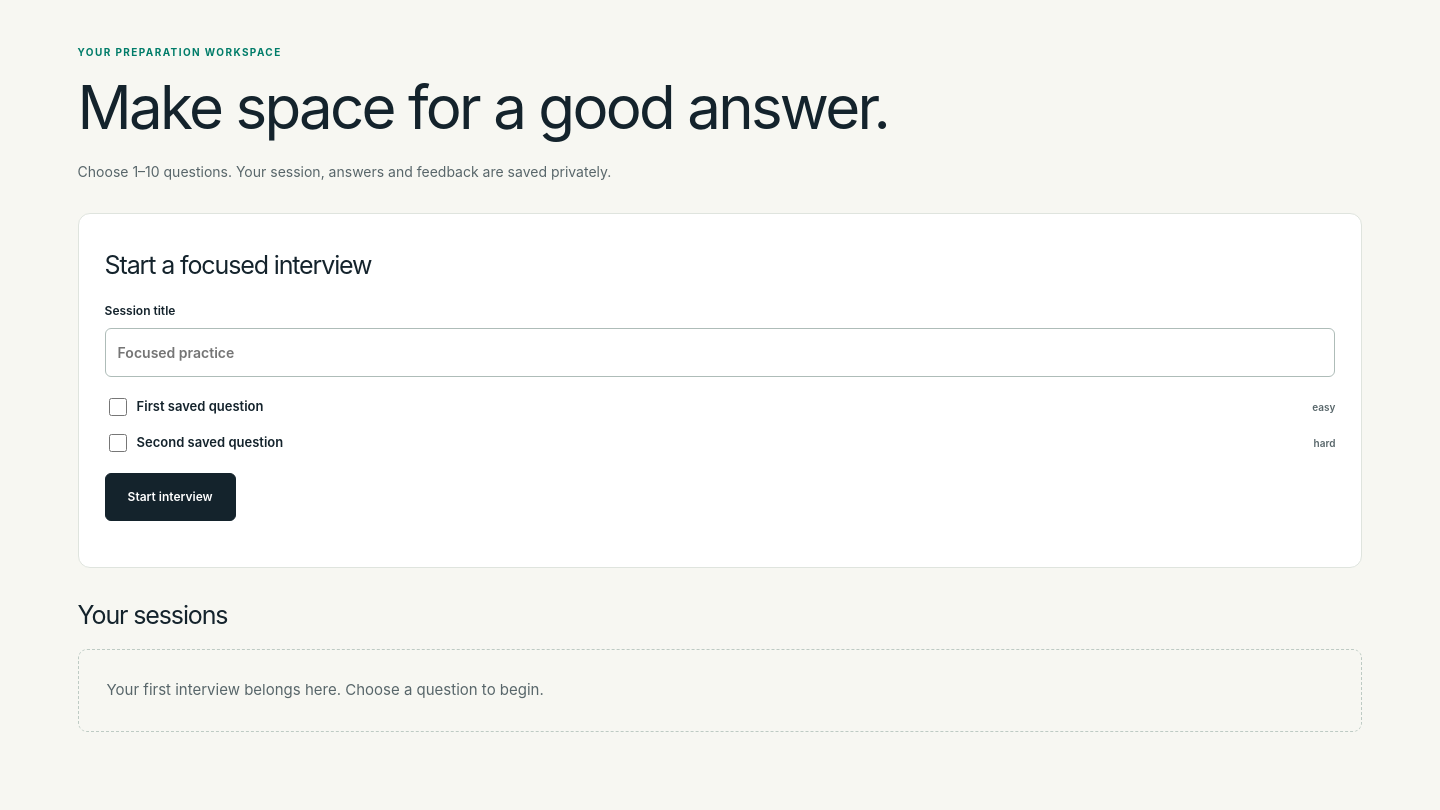
interview picker sends only selected saved questions and preserves selection after API failure
Expected: the checkbox labelled "First saved question easy" is shown, top-left (109, 398), bottom-right (127, 416)
Click the checkbox labelled "Second saved question hard": (118, 443) top-left (109, 434), bottom-right (127, 452)
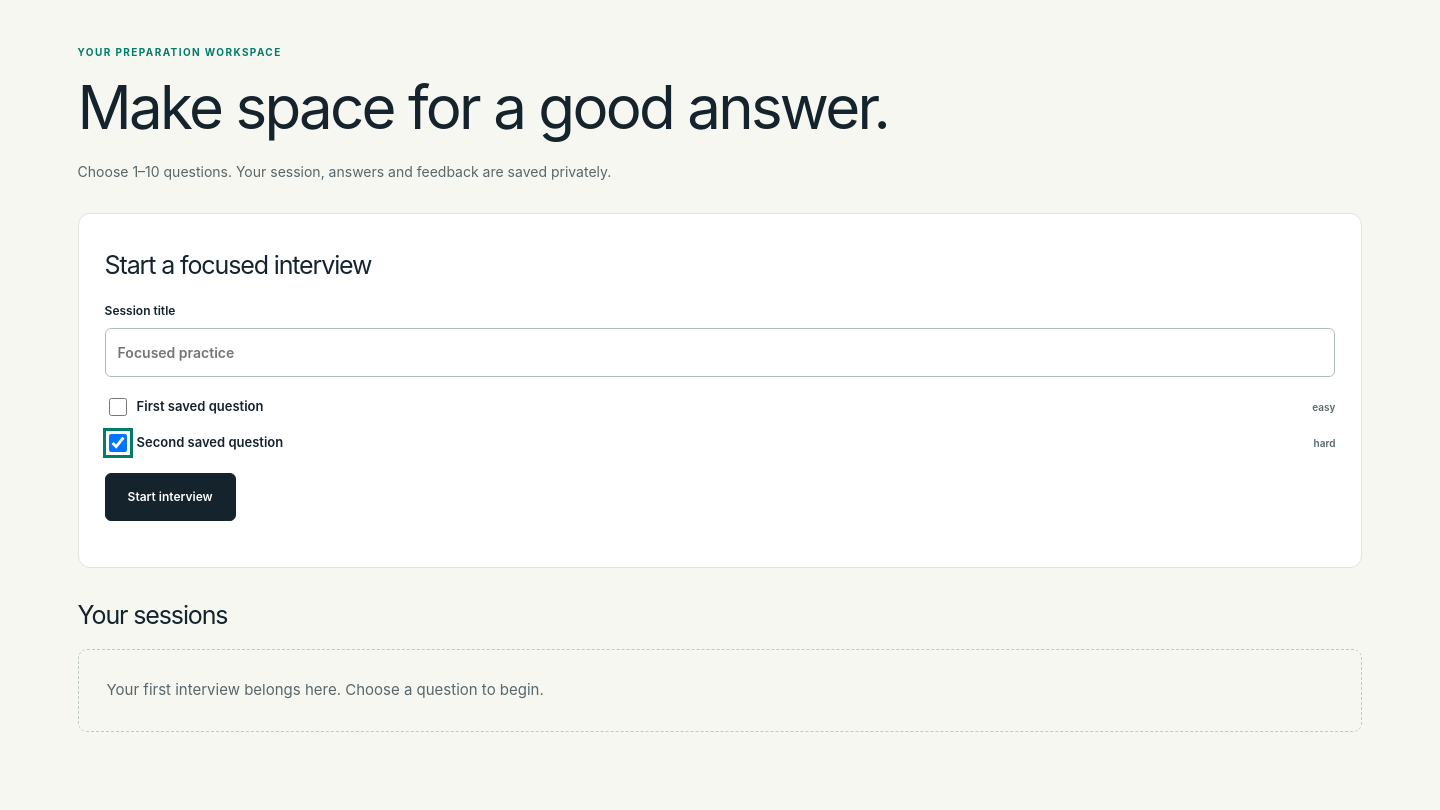
In the field labelled "Session title": (720, 352) top-left (105, 328), bottom-right (1335, 377), type "System design prep"
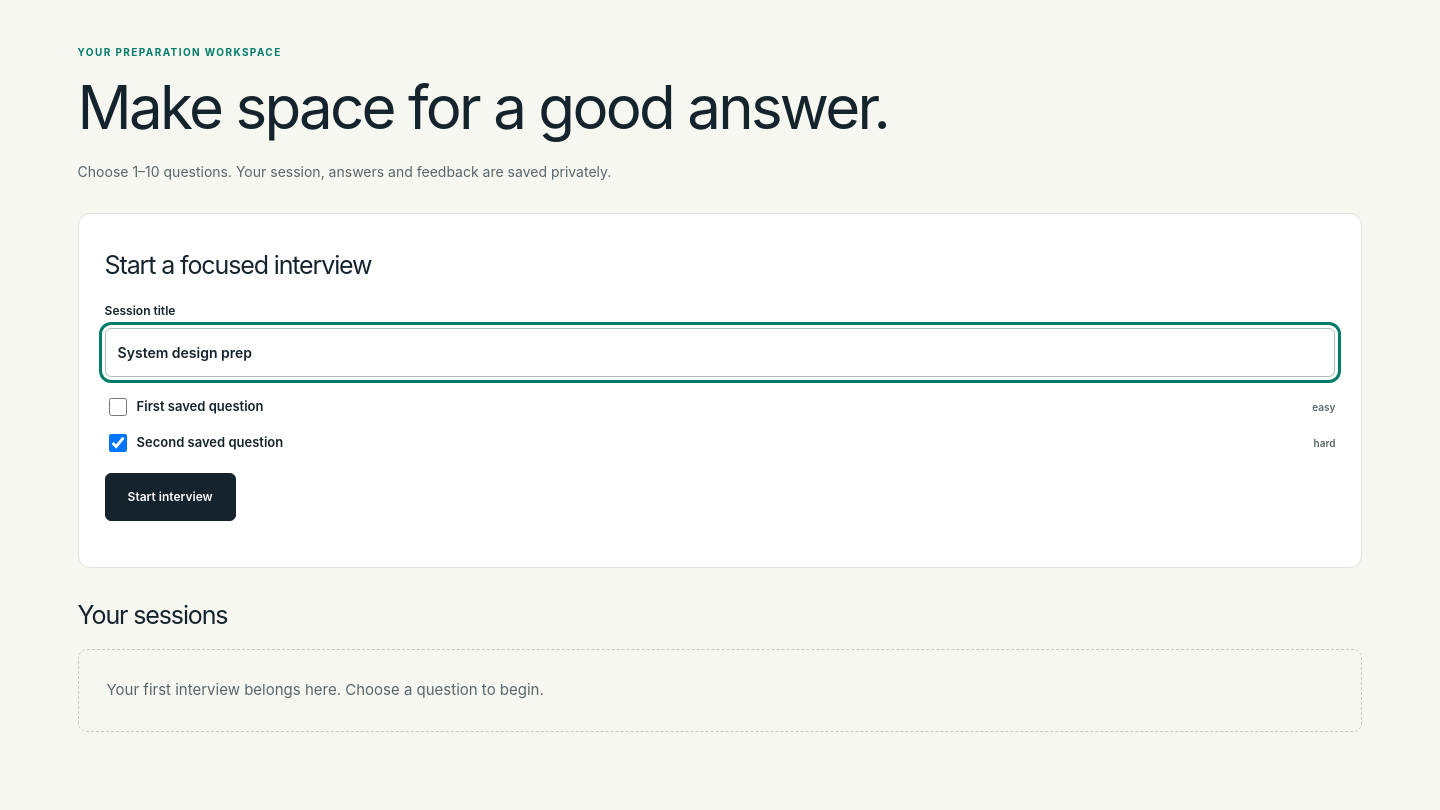
Click the button "Start interview": (170, 497) top-left (105, 473), bottom-right (236, 521)
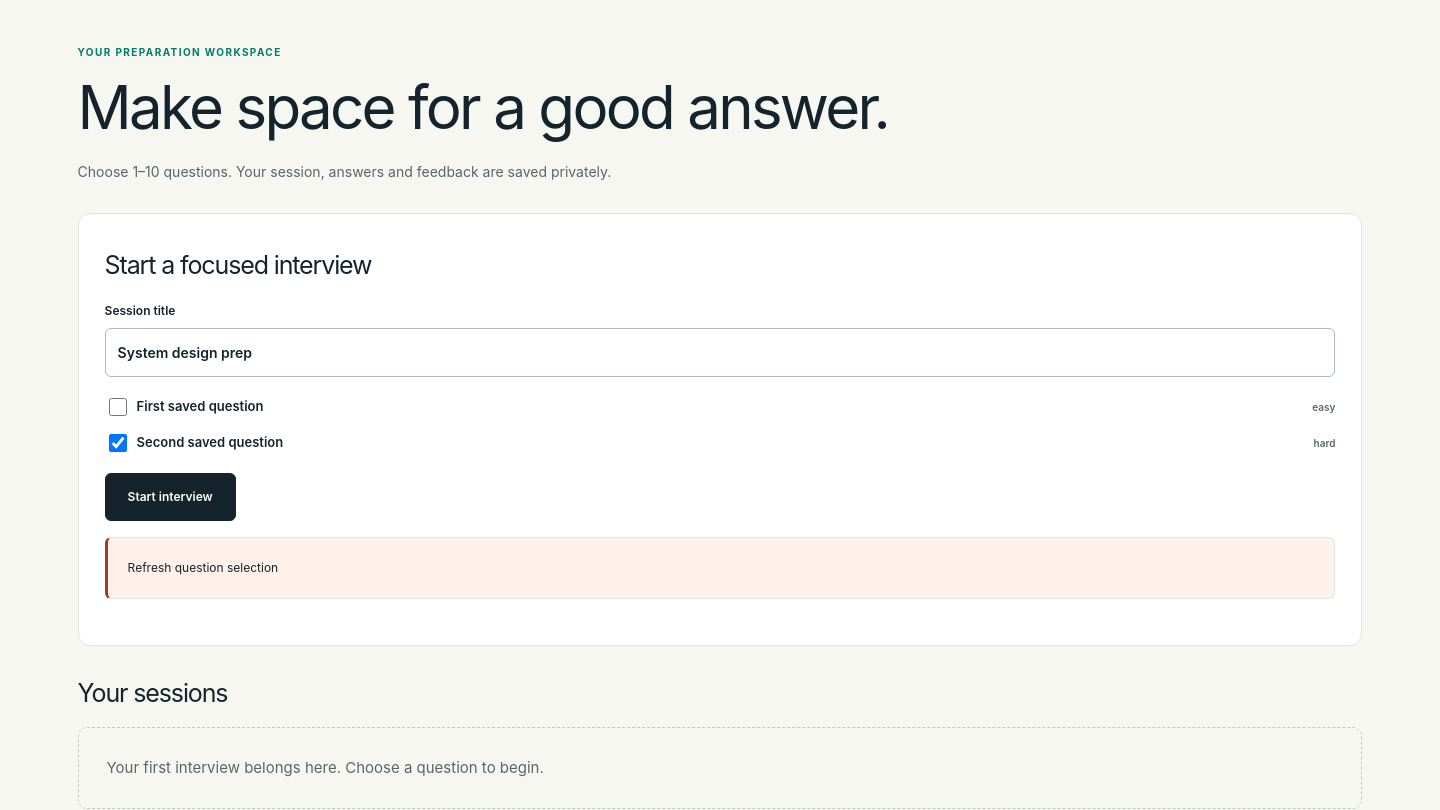
Now the checkbox labelled "Second saved question hard" is checked, box top-left (109, 434), bottom-right (127, 452)
Now the message "Refresh question selection" is shown, box top-left (105, 537), bottom-right (1335, 599)
